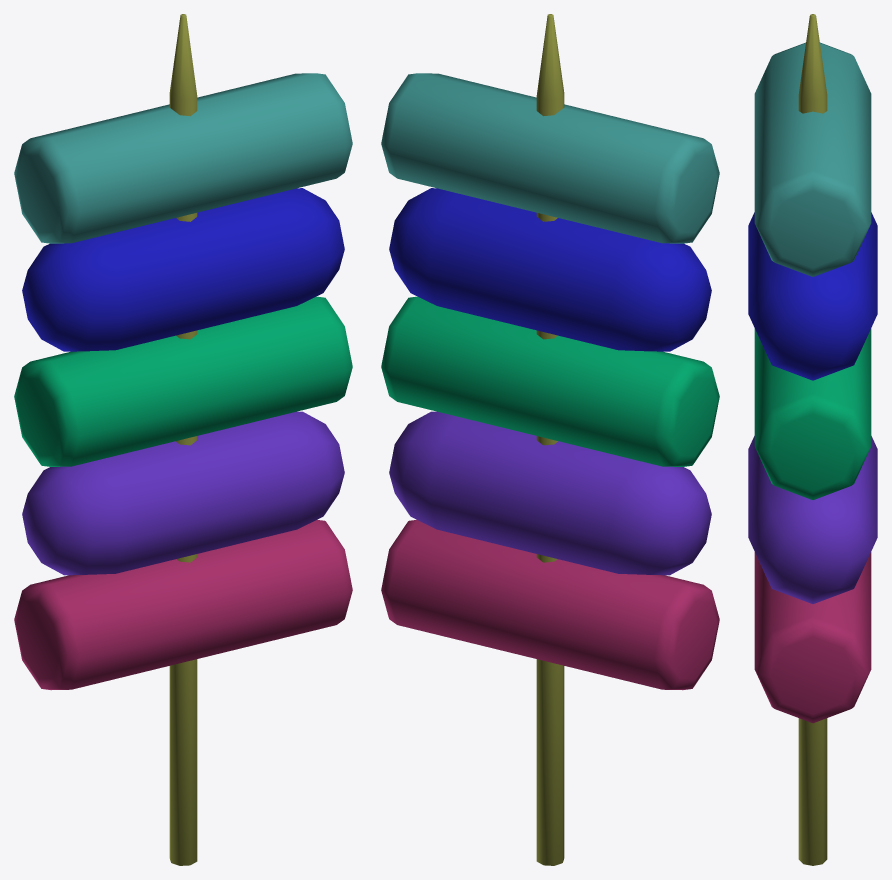
File: Sotteokkkaebi.fbx
The picture shows the model from 3 angles, left to right: view 1: azimuth 30°, elevation 25°; view 2: azimuth 150°, elevation 25°; view 3: azimuth 270°, elevation 25°; orthographic projection.
Visible parts, largest first — view 1: Sotteokkkaebi; view 2: Sotteokkkaebi; view 3: Sotteokkkaebi.
Part boxes in pixels (x1=…): Sotteokkkaebi: x1=14, y1=14, x2=352, y2=865; Sotteokkkaebi: x1=381, y1=14, x2=719, y2=865; Sotteokkkaebi: x1=748, y1=14, x2=877, y2=865.
Bounding box in the file's own units: 20.51 × 55.24 × 7.67.
